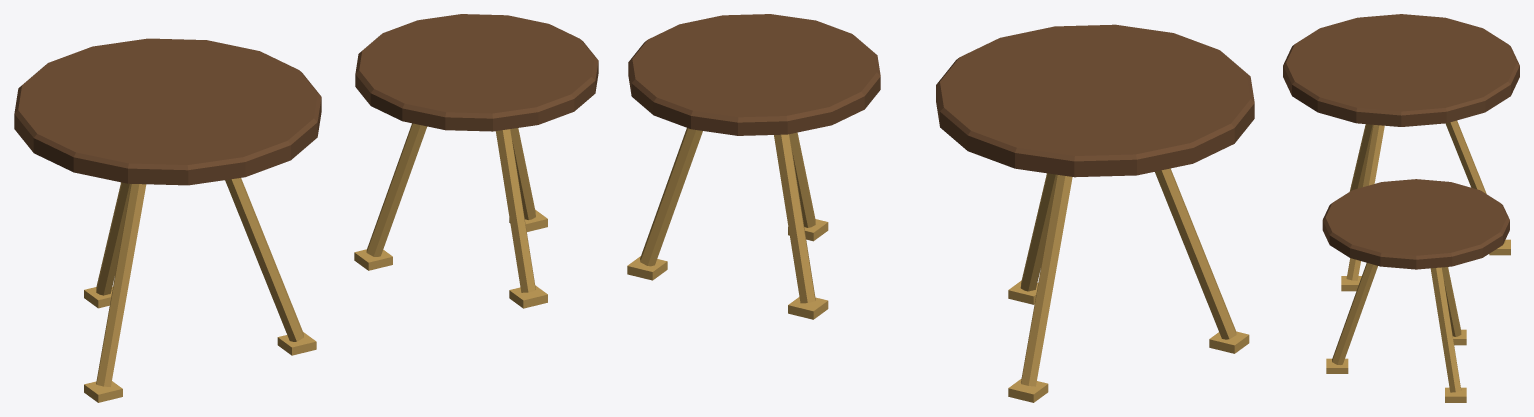
File: FN_Table_Coffee_Nest.glb
3 renders of one model, left to right at view 1: azimuth 30°, elevation 25°; view 2: azimuth 150°, elevation 25°; view 3: azimuth 270°, elevation 25°, orthographic. The views are drawn at different scales.
Visible parts, largest first — view 1: FN_Table_Coffee_Nest; view 2: FN_Table_Coffee_Nest; view 3: FN_Table_Coffee_Nest.
Part boxes in pixels (x1,y1,x2,y2): FN_Table_Coffee_Nest: (14,14,598,402); FN_Table_Coffee_Nest: (627,14,1254,402); FN_Table_Coffee_Nest: (1283,14,1519,402).
Size of the model in its own units: 1 by 0.42 by 0.48.
1 material, 1 textured.
